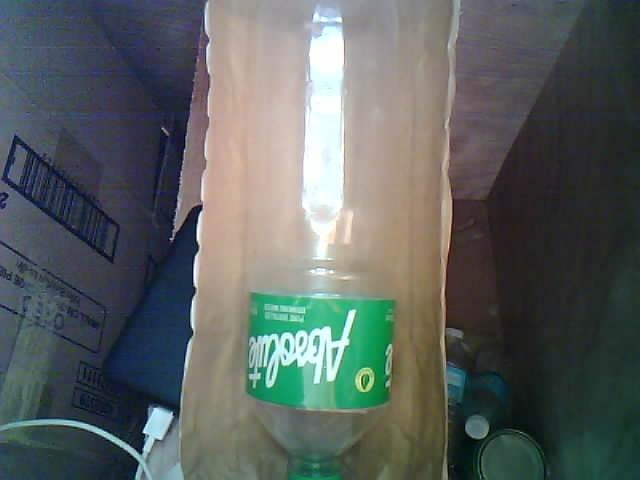large_bottle: (232, 0, 410, 480)
